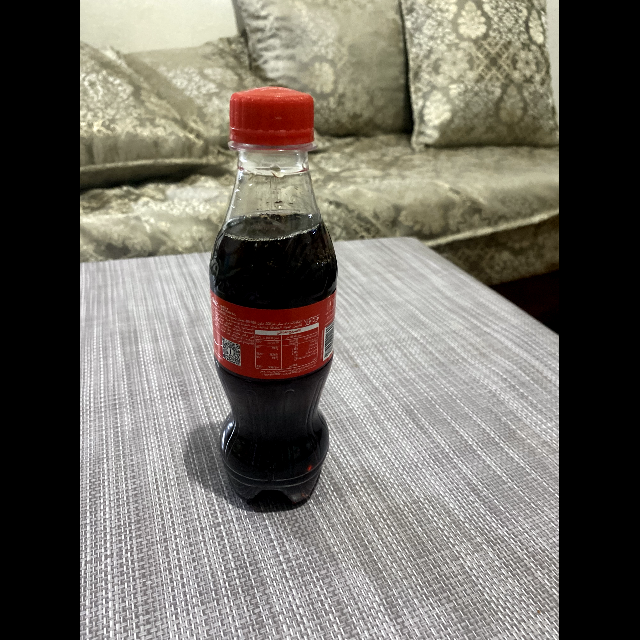coca-cola PB: (207, 86, 339, 505)
